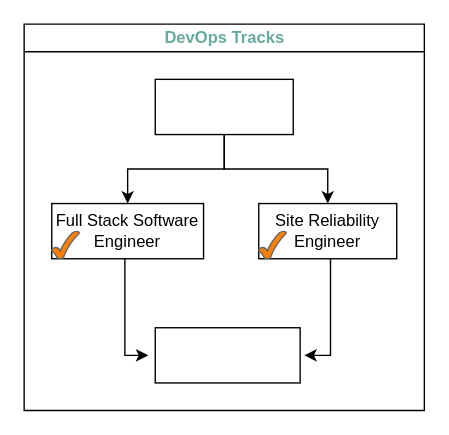
The diagram is 449 pixels wide and 435 high, and some of its shapes have lost their labels. Here are the shapes that lost their labels. From the top down, the box of each, then its label:
(154, 78, 293, 135): DevOps Practice
(154, 326, 300, 383): Technology Architect
